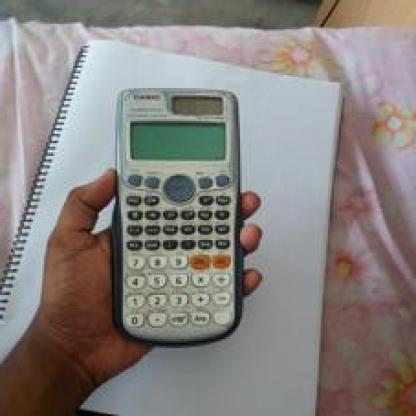calculator: (112, 76, 244, 343)
